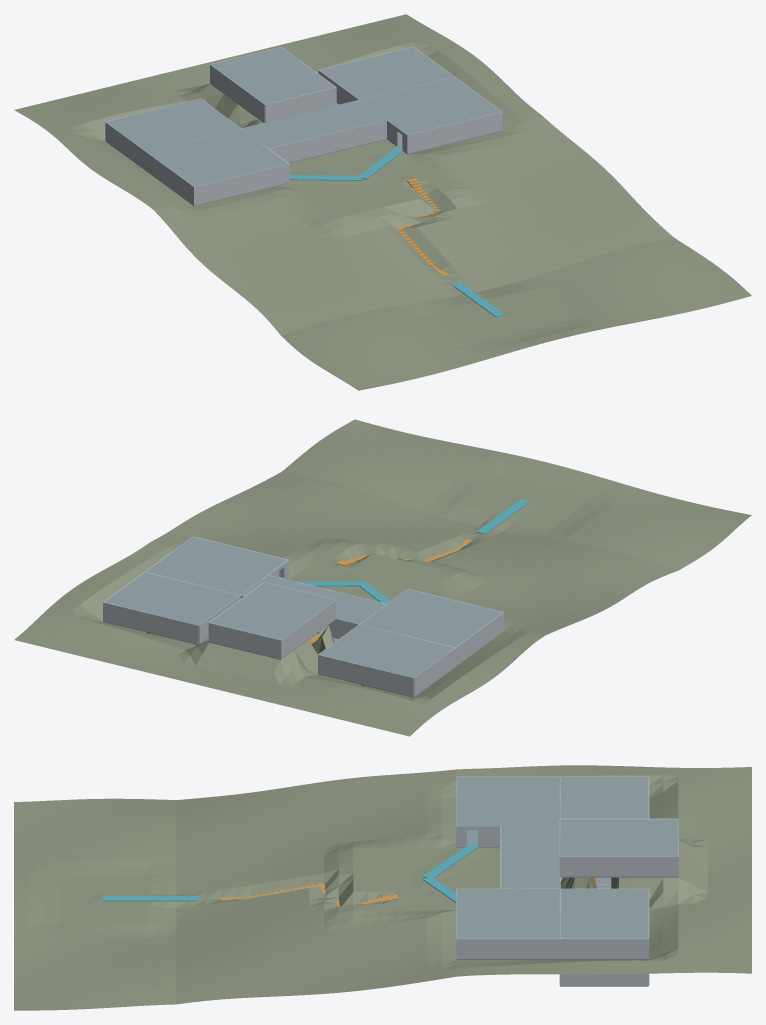
File: supported-terrain.glb
3 views of the same model, one above another, from view 1: azimuth 30°, elevation 25°; view 2: azimuth 150°, elevation 25°; view 3: azimuth 270°, elevation 25° (orthographic). The views are drawn at different scales.
Parts seen in each view (by area): view 1: Authored battery terrain, Ceiling cap east, Ceiling cap west, Ceiling cap magazine, Ceiling cap director, Ceiling cap service, Ceiling cap gallery, Wall gallery S, Wall east S, Wall west S, Wall director S, Wall director W (+2 smaller); view 2: Authored battery terrain, Ceiling cap west, Ceiling cap east, Ceiling cap magazine, Ceiling cap director, Ceiling cap service, Wall service N, Wall magazine N, Ceiling cap gallery, Wall director N, Wall director W, Wall west W (+1 smaller); view 3: Authored battery terrain, Ceiling cap west, Ceiling cap east, Ceiling cap director, Ceiling cap service, Ceiling cap magazine, Ceiling cap gallery, Wall director E, Wall east E, Wall service E, Wall plant E, route-01 support 0 (+2 smaller).
Boxes of the visible parts, x1,y1,x2,y2 form: Authored battery terrain: (14, 14, 751, 390); Ceiling cap east: (360, 77, 501, 134); Ceiling cap west: (147, 129, 288, 186); Ceiling cap magazine: (106, 99, 240, 151); Ceiling cap director: (210, 47, 334, 104); Ceiling cap service: (319, 47, 453, 99); Ceiling cap gallery: (241, 100, 385, 148); Wall gallery S: (269, 120, 386, 162); Wall east S: (407, 112, 502, 153); Wall west S: (194, 164, 289, 205); Wall director S: (265, 87, 336, 122); Wall director W: (210, 64, 264, 122); Authored battery terrain: (14, 419, 751, 736); Ceiling cap west: (360, 589, 503, 647); Ceiling cap east: (146, 537, 287, 594); Ceiling cap magazine: (319, 624, 454, 677); Ceiling cap director: (210, 582, 335, 639); Ceiling cap service: (104, 572, 239, 625); Wall service N: (103, 602, 198, 644); Wall magazine N: (318, 654, 413, 696); Ceiling cap gallery: (241, 575, 386, 624); Wall director N: (209, 622, 280, 658); Wall director W: (280, 600, 336, 658); Wall west W: (455, 612, 503, 665); Authored battery terrain: (14, 765, 751, 1010); Ceiling cap west: (456, 776, 559, 826); Ceiling cap east: (456, 889, 559, 938); Ceiling cap director: (560, 819, 678, 856); Ceiling cap service: (560, 889, 648, 938); Ceiling cap magazine: (560, 776, 648, 818); Ceiling cap gallery: (501, 826, 559, 888); Wall director E: (560, 856, 678, 876); Wall east E: (456, 938, 559, 958); Wall service E: (560, 938, 648, 958); Wall plant E: (560, 973, 648, 985); route-01 support 0: (102, 896, 198, 901).
Size of the model in its own units: 67.8 by 10.7 by 100.
